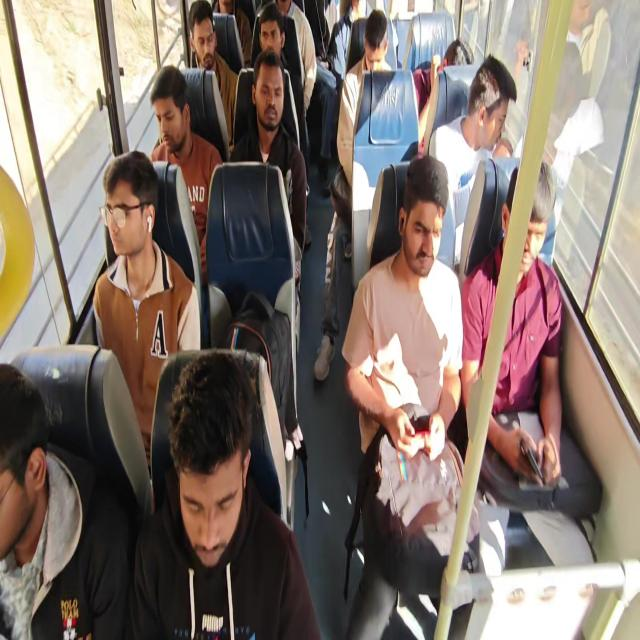person: (172, 370, 312, 640), (0, 348, 83, 640), (399, 172, 500, 397), (490, 181, 569, 368), (100, 118, 161, 296), (250, 70, 310, 178), (154, 60, 200, 196), (470, 61, 514, 150), (366, 16, 401, 88), (432, 33, 467, 88), (194, 0, 224, 62), (307, 0, 333, 69), (340, 0, 382, 42), (261, 16, 289, 71), (271, 0, 299, 39)
